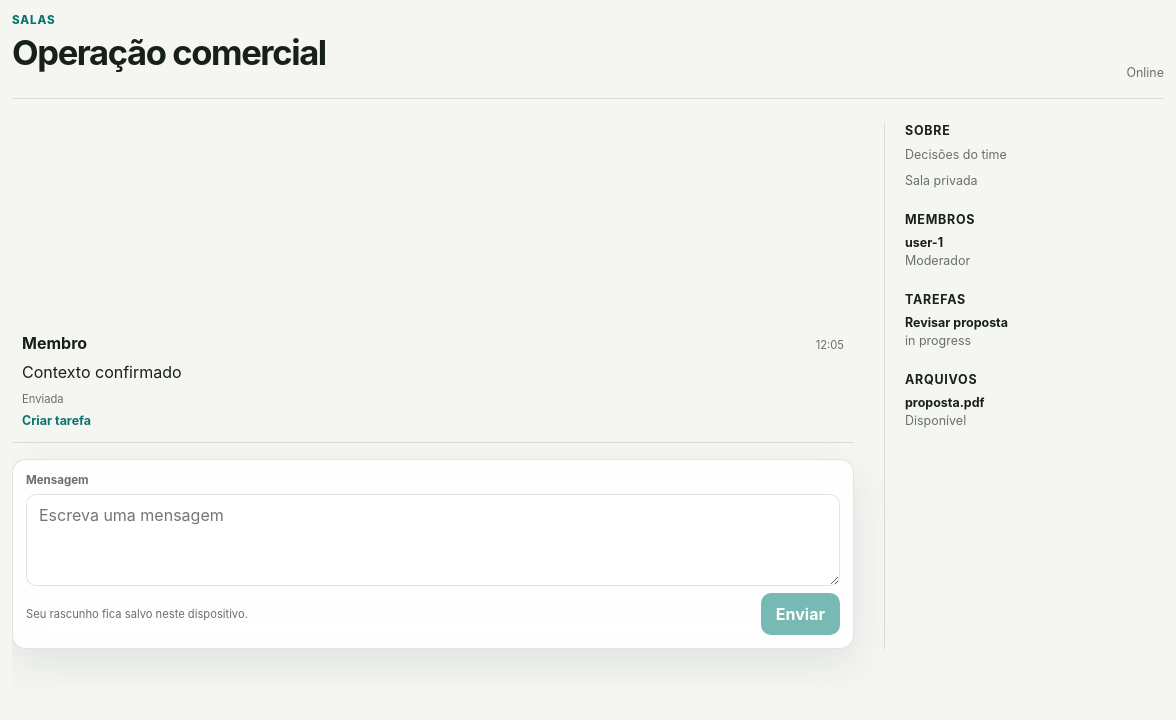
Test: ConversationsWorkspace › performs an authoritative online refetch without losing the draft
The width and height of the screenshot is (1176, 720).
Check: the text "Contexto confirmado" is shown, box [22,362,182,382]
Type "Rascunho preservado" into the text box labelled "Mensagem".
click(433, 540); type("Rascunho preservado")  # box [26,494,840,586]
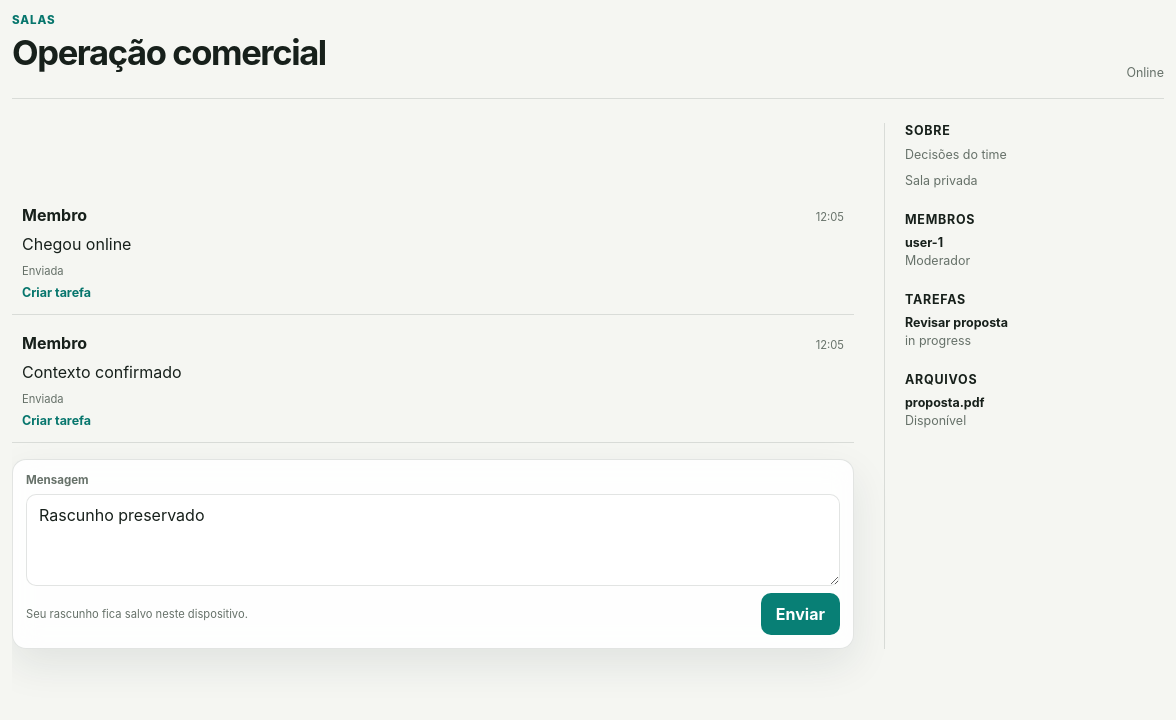
Check: the text "Contexto confirmado" is shown once, box [22,362,182,382]
Check: the text "Chegou online" is shown, box [22,234,131,254]
